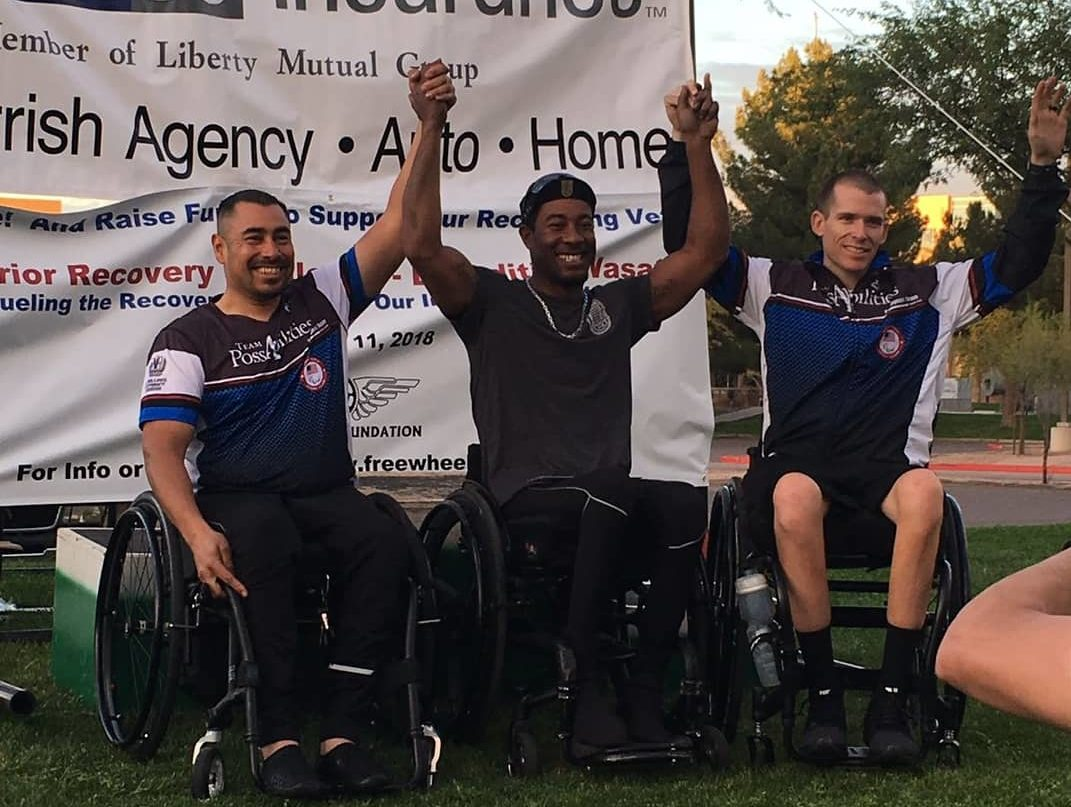Person: (657, 72, 1068, 760), (402, 58, 735, 756), (146, 60, 446, 788)
